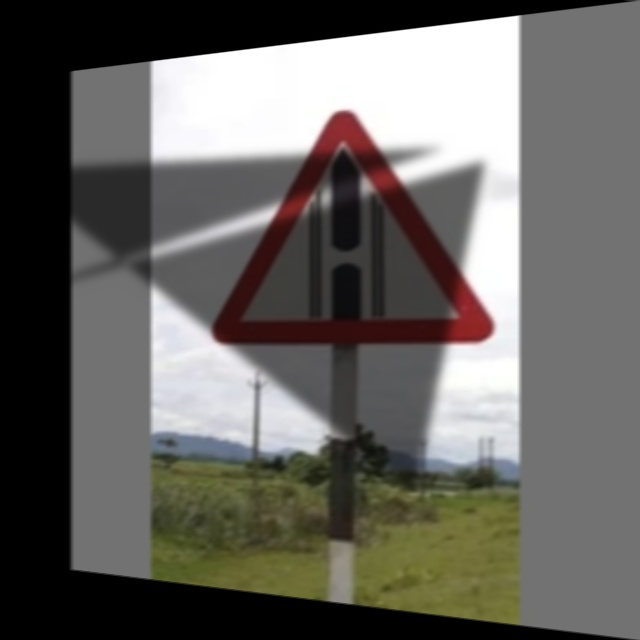Gap_in_Median: (213, 79, 491, 345)
